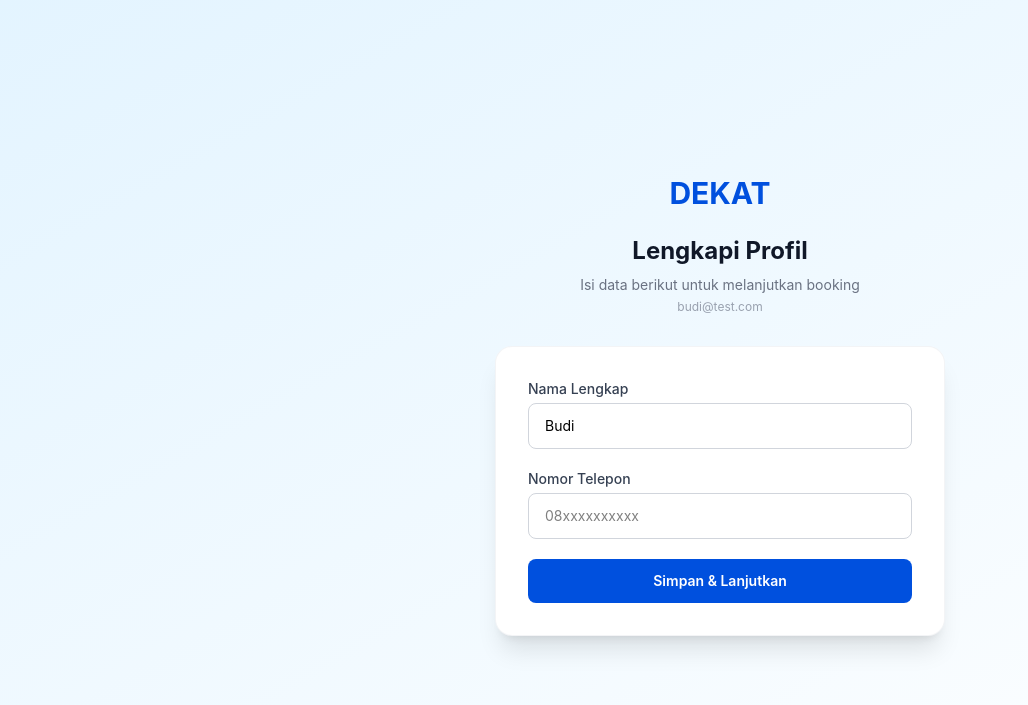
Test: ProfileCompletePage › shows non-Error exception as generic message
The image size is (1028, 705).
Replace the text in the field with placeholder "Masukkan nama Anda" with "Budi Santoso" at (720, 426), box [528, 403, 912, 449]
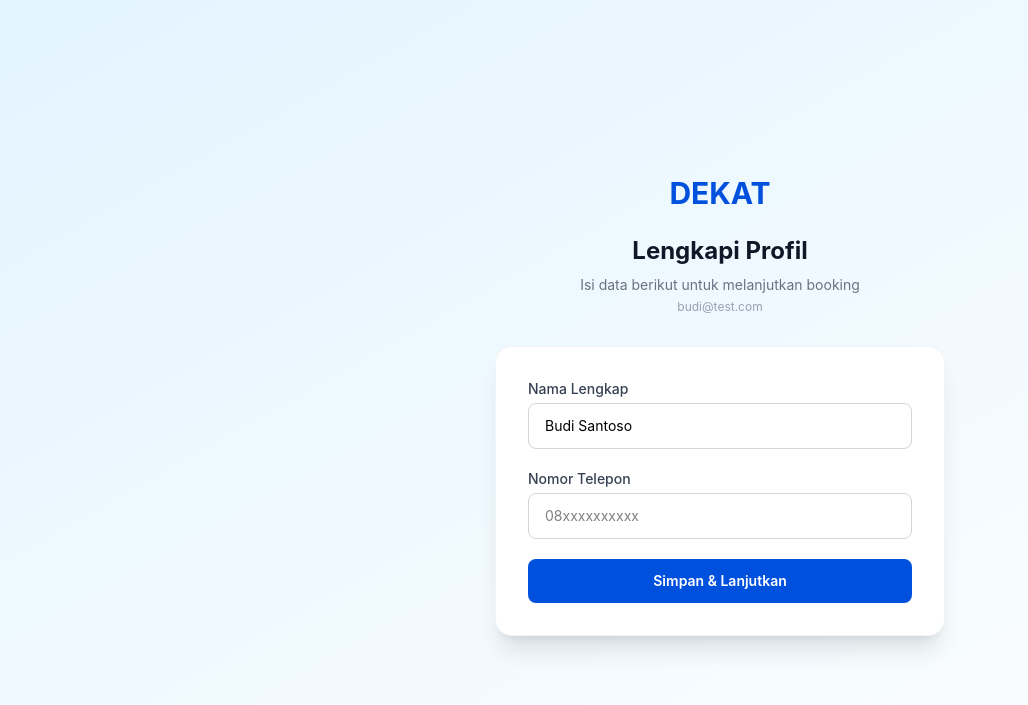
Type "081234567890" into the field with placeholder "08xxxxxxxxxx" at (720, 516), box [528, 493, 912, 539]
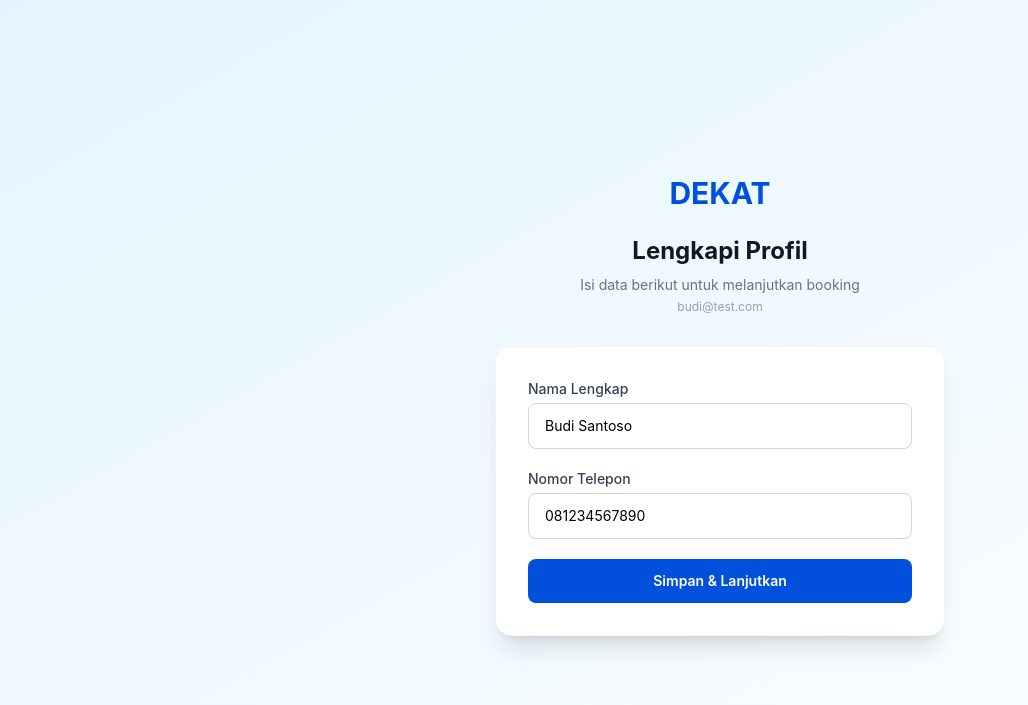
Click the button "Simpan & Lanjutkan" at (720, 581), box [528, 559, 912, 603]
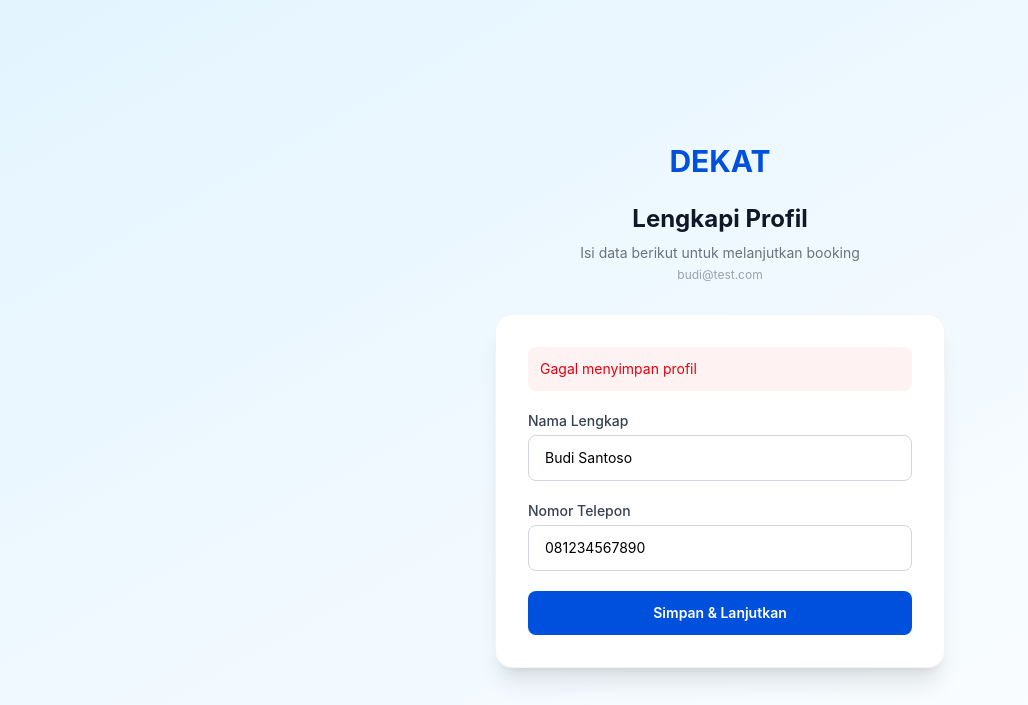
expect the text "Gagal menyimpan profil" is shown: met, box [528, 347, 912, 391]
